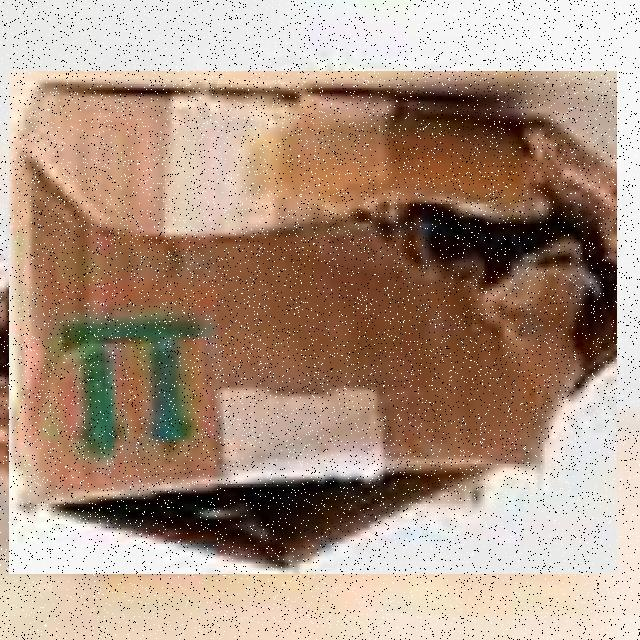defect: (9, 71, 617, 574)
